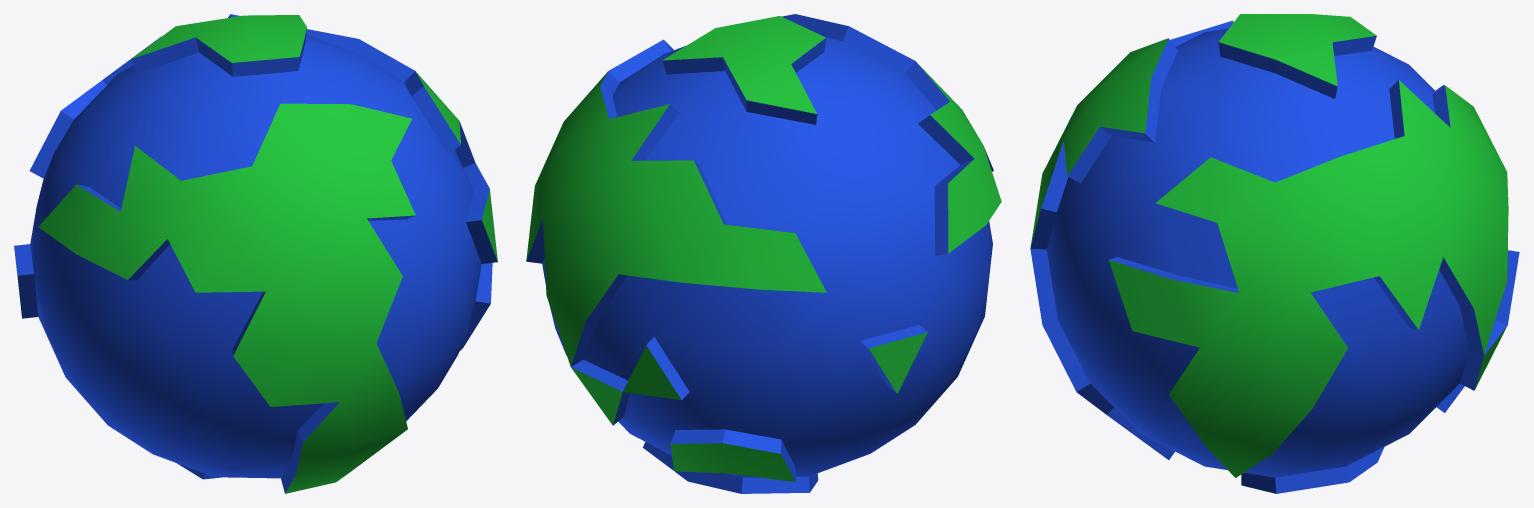
The model's file is globe.glb.
3 views of the same model, side by side, from view 1: azimuth 30°, elevation 25°; view 2: azimuth 150°, elevation 25°; view 3: azimuth 270°, elevation 25° (orthographic).
Visible parts, largest first — view 1: Icosphere001, Icosphere001_1; view 2: Icosphere001, Icosphere001_1; view 3: Icosphere001, Icosphere001_1.
Boxes of the visible parts, box(x1,y1,x2,y2) form: Icosphere001: box(14, 14, 497, 493); Icosphere001_1: box(14, 15, 497, 493); Icosphere001: box(526, 14, 993, 493); Icosphere001_1: box(526, 16, 1001, 481); Icosphere001: box(1030, 20, 1519, 493); Icosphere001_1: box(1030, 14, 1508, 477).
Size of the model in its own units: 2.09 by 2.14 by 2.14.
